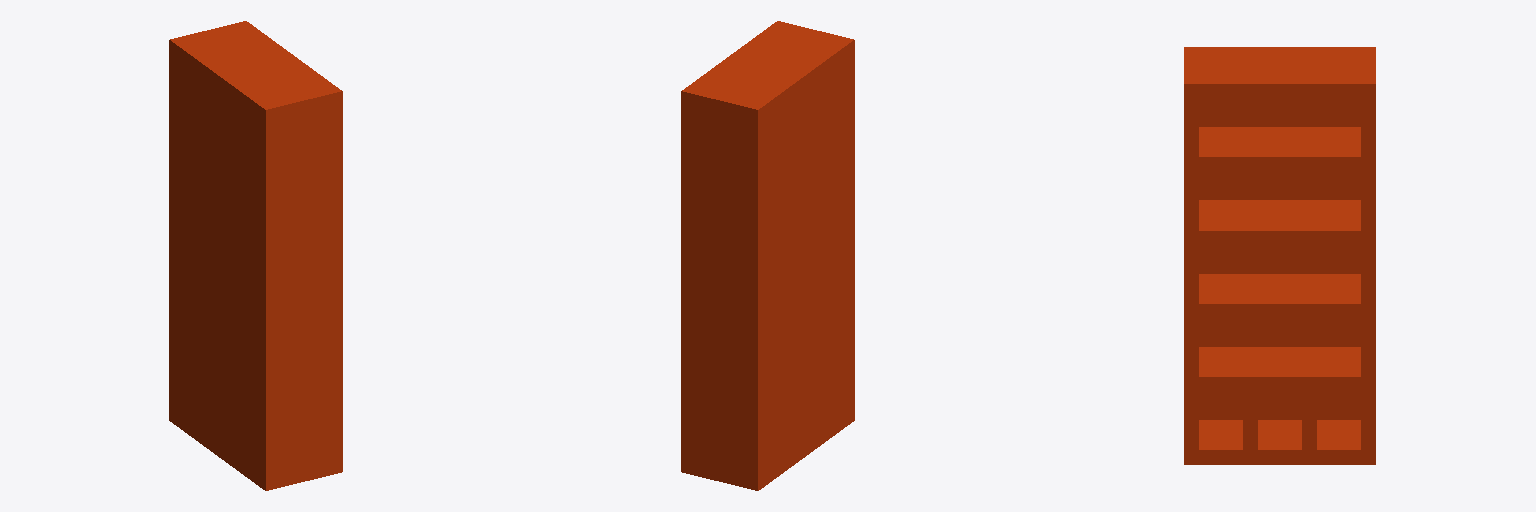
The model's file is bookcase.obj.
3 views of the same model, side by side, from view 1: azimuth 30°, elevation 25°; view 2: azimuth 150°, elevation 25°; view 3: azimuth 270°, elevation 25° (orthographic).
Parts seen in each view (by area): view 1: Cube; view 2: Cube; view 3: Cube.
Part boxes in pixels (x1,y1,x2,y2): Cube: (169,21,342,490); Cube: (681,21,854,490); Cube: (1184,47,1375,464).
Bounding box in the file's own units: 1.1 × 5.21 × 2.38.